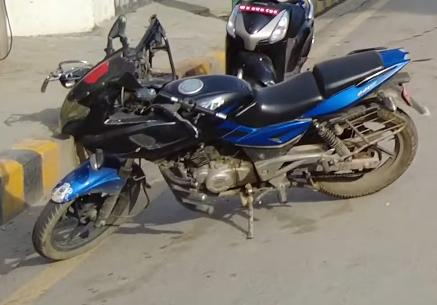bike: (25, 22, 426, 267)
